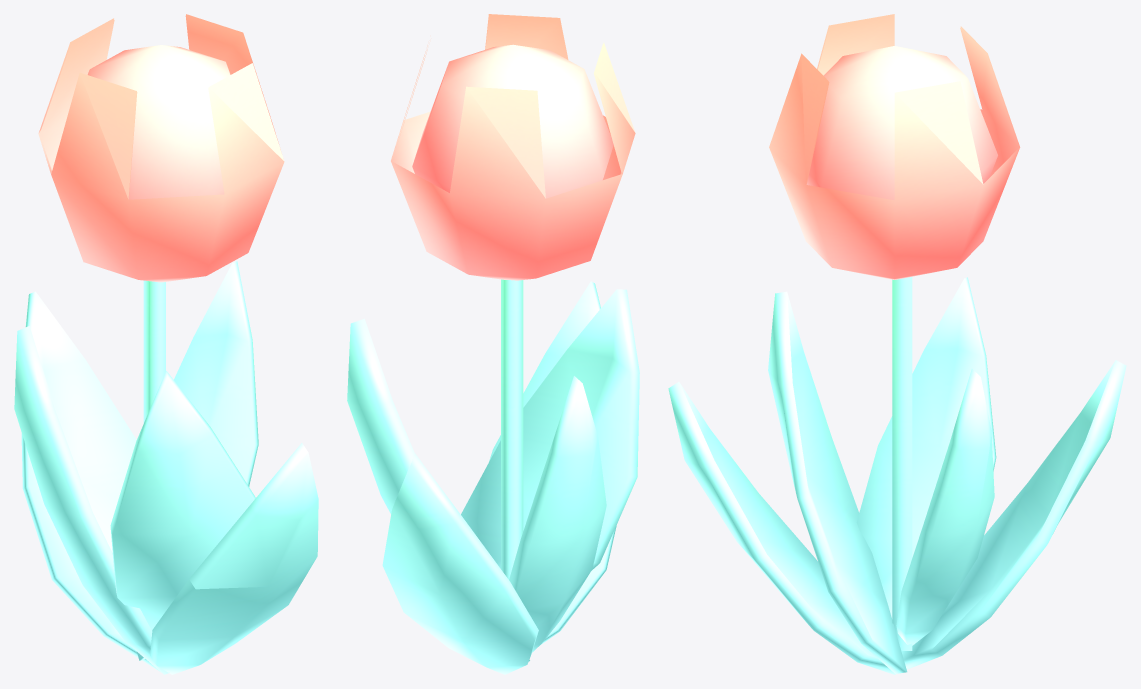
File: Tulip_Red.glb
3 renders of one model, left to right at view 1: azimuth 30°, elevation 25°; view 2: azimuth 150°, elevation 25°; view 3: azimuth 270°, elevation 25°, orthographic.
Parts seen in each view (by area): view 1: Tulip_Red_Material #150_0; view 2: Tulip_Red_Material #150_0; view 3: Tulip_Red_Material #150_0.
Boxes of the visible parts, x1,y1,x2,y2 form: Tulip_Red_Material #150_0: [14, 14, 318, 674]; Tulip_Red_Material #150_0: [347, 14, 639, 674]; Tulip_Red_Material #150_0: [668, 14, 1126, 674].
Size of the model in its own units: 0.3564 by 0.9083 by 0.6046.
